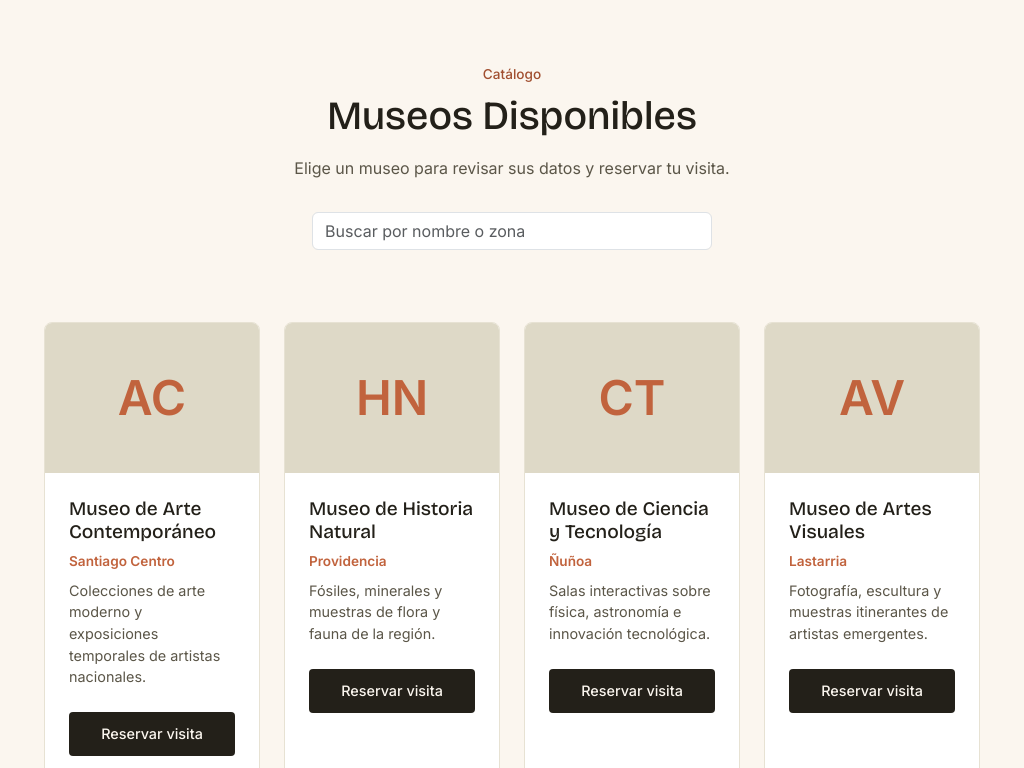
Página Museos › filtra los museos según el texto del buscador (estado)
The image size is (1024, 768).
Type "providencia" into the search field with placeholder "Buscar por nombre o zona".
click(512, 231); type("providencia")  # box [312,212,712,250]
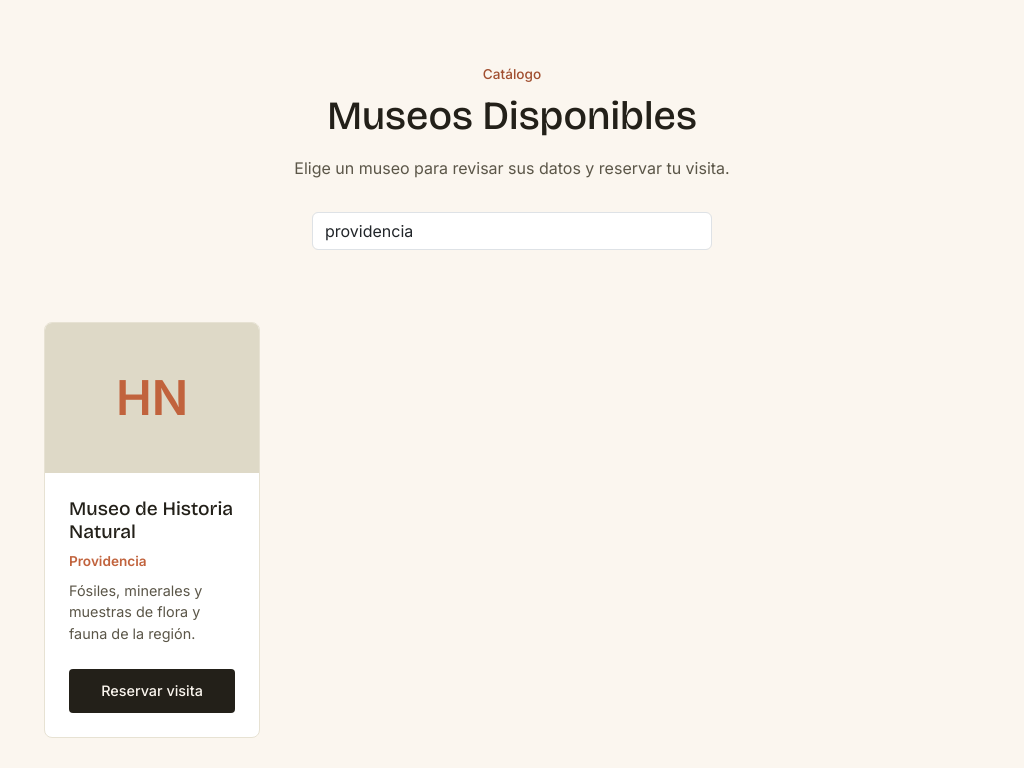
Expected: the heading "Museo de Historia Natural" is shown, [69,497,235,544]
Expected: the number of list items is 1, [32,322,272,738]
